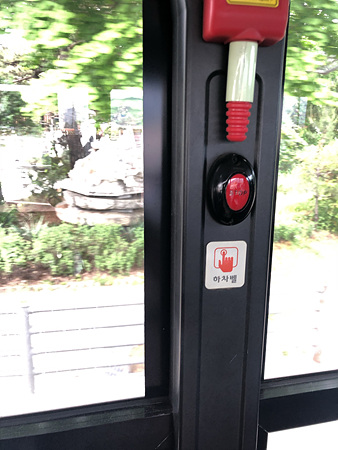bell: (206, 152, 257, 226)
